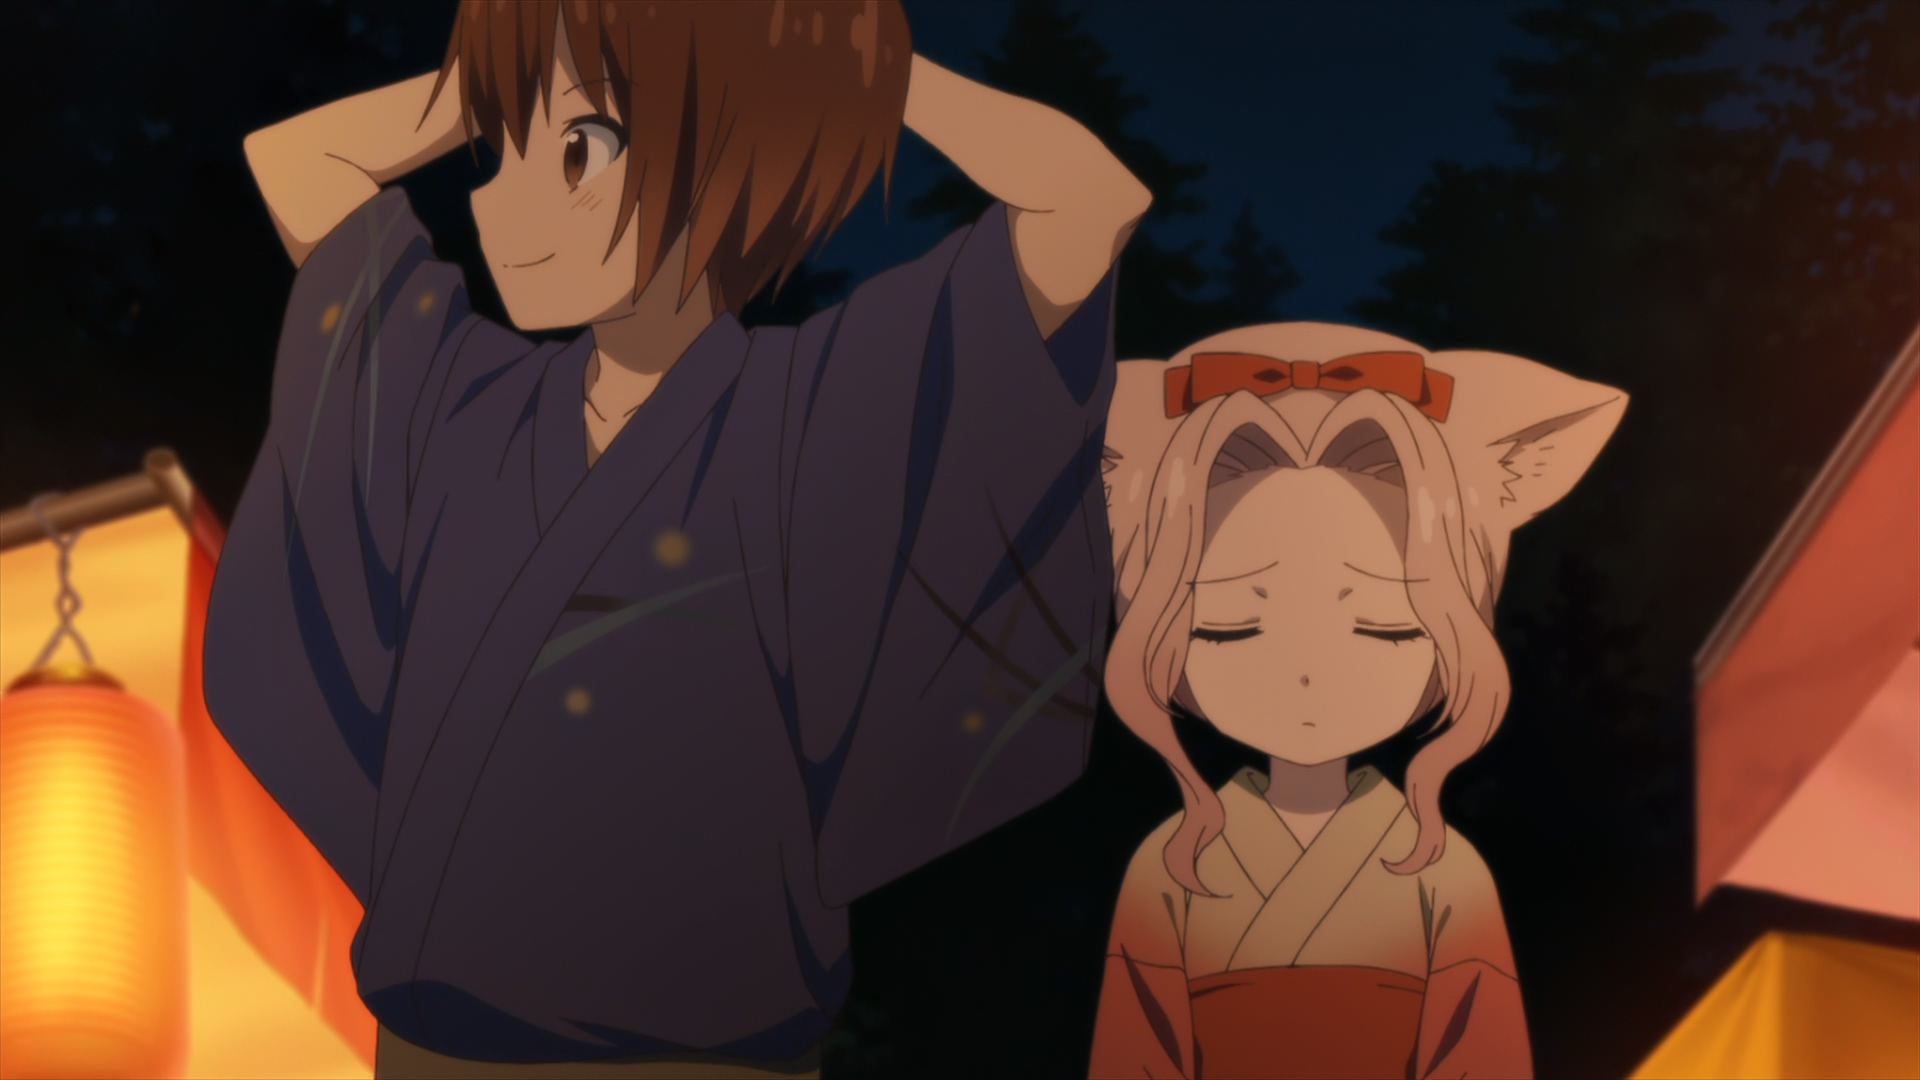枣: (200, 1, 1153, 1080)
莲: (1091, 320, 1629, 1080)
